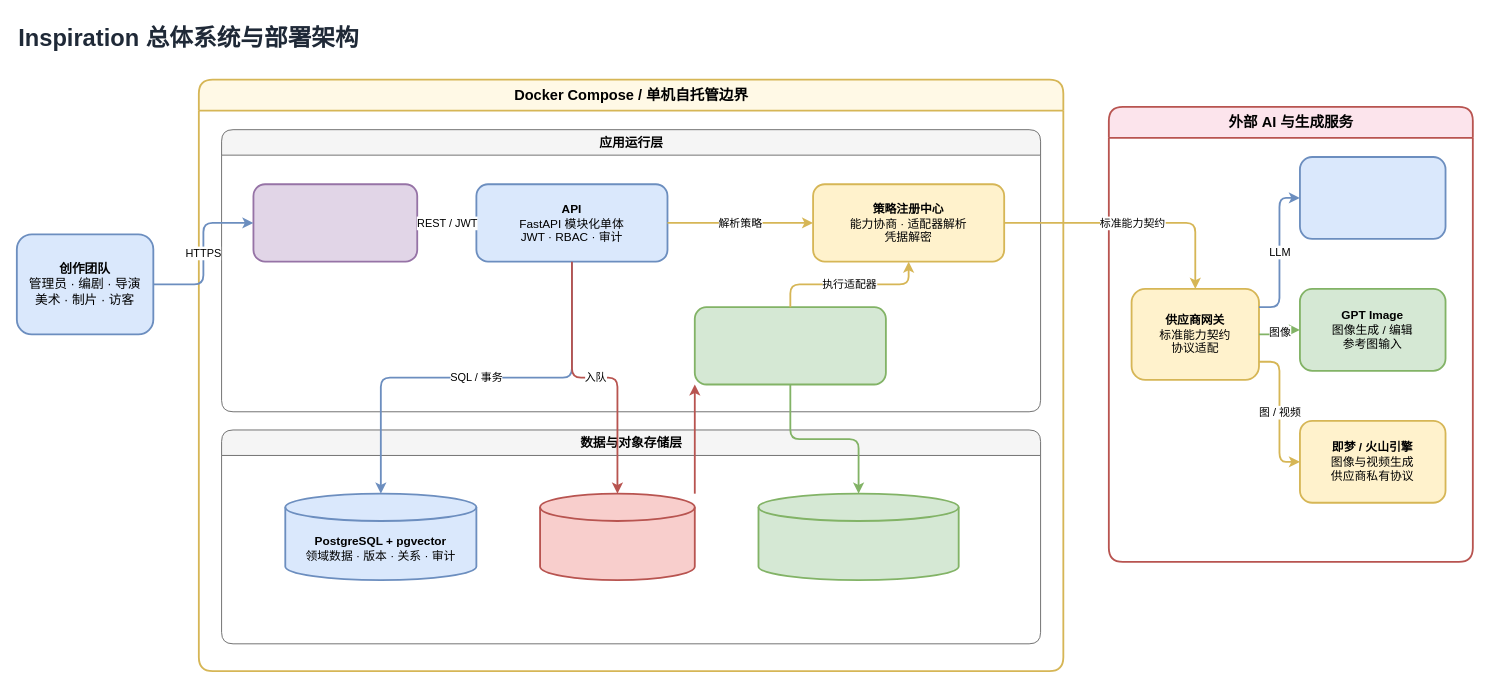
The diagram is 1489 pixels wide and 687 high, and some of its shapes have lost their labels. The shapes that lost their labels are listed below. From the top down, each one's box as (x1, y1, x2, y2) in pixels, then its label:
(1299, 156, 1446, 239): 云 LLM 改编 · 拆解 · 设定提取 AI 对话助手
(252, 183, 418, 262): Web Nginx + React TypeScript / Vite 构建
(693, 306, 886, 385): Celery Worker 生成任务 · 重试 · 轮询 产物物化
(539, 492, 695, 581): Redis Celery Broker 任务队列
(757, 492, 959, 581): MinIO / 文件系统 CAS 内容寻址 参考图 · 图像 · 视频
